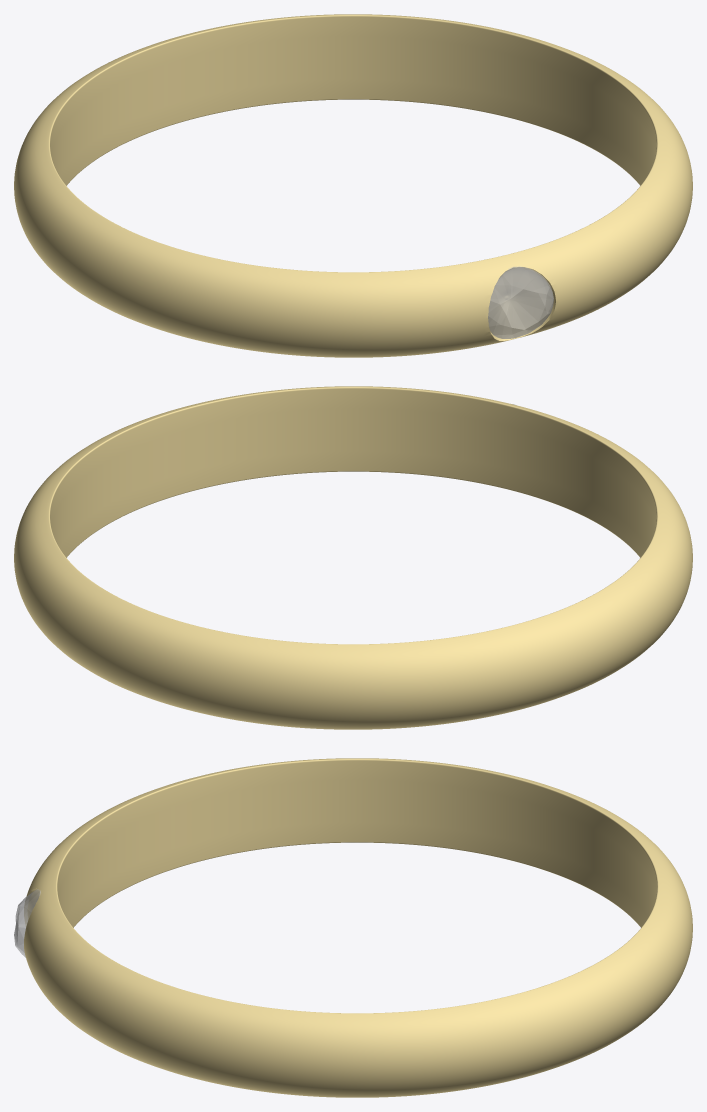
3 views of the same model, one above another, from view 1: azimuth 30°, elevation 25°; view 2: azimuth 150°, elevation 25°; view 3: azimuth 270°, elevation 25° (orthographic).
Visible parts, largest first — view 1: Base_metal, Engraving_Metal, Diamond_Mesh; view 2: Base_metal, Engraving_Metal; view 3: Base_metal, Engraving_Metal, Diamond_Mesh.
Boxes of the visible parts, x1,y1,x2,y2 form: Base_metal: (14, 14, 692, 357); Engraving_Metal: (50, 17, 656, 185); Diamond_Mesh: (488, 266, 553, 338); Base_metal: (14, 386, 692, 729); Engraving_Metal: (50, 389, 656, 557); Base_metal: (24, 758, 692, 1097); Engraving_Metal: (57, 760, 657, 927); Diamond_Mesh: (14, 889, 40, 957).
Bounding box in the file's own units: 1.8 × 0.2475 × 1.83.
